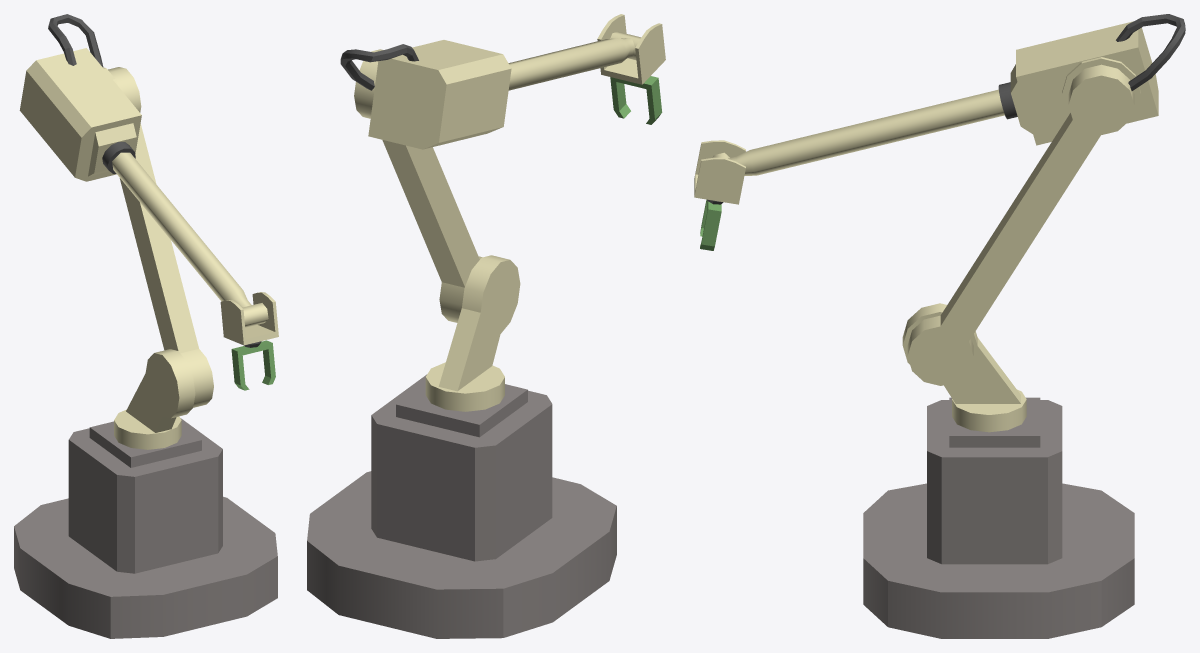
The model's file is SM_Robo_01.fbx.
3 renders of one model, left to right at view 1: azimuth 30°, elevation 25°; view 2: azimuth 150°, elevation 25°; view 3: azimuth 270°, elevation 25°, orthographic. The views are drawn at different scales.
Parts seen in each view (by area): view 1: SM_Robo_01; view 2: SM_Robo_01; view 3: SM_Robo_01.
Boxes of the visible parts, left/top/right/bottom form: SM_Robo_01: left=14, top=14, right=278, bottom=638; SM_Robo_01: left=307, top=14, right=665, bottom=638; SM_Robo_01: left=694, top=14, right=1185, bottom=638.
Size of the model in its own units: 119 by 279 by 222.
